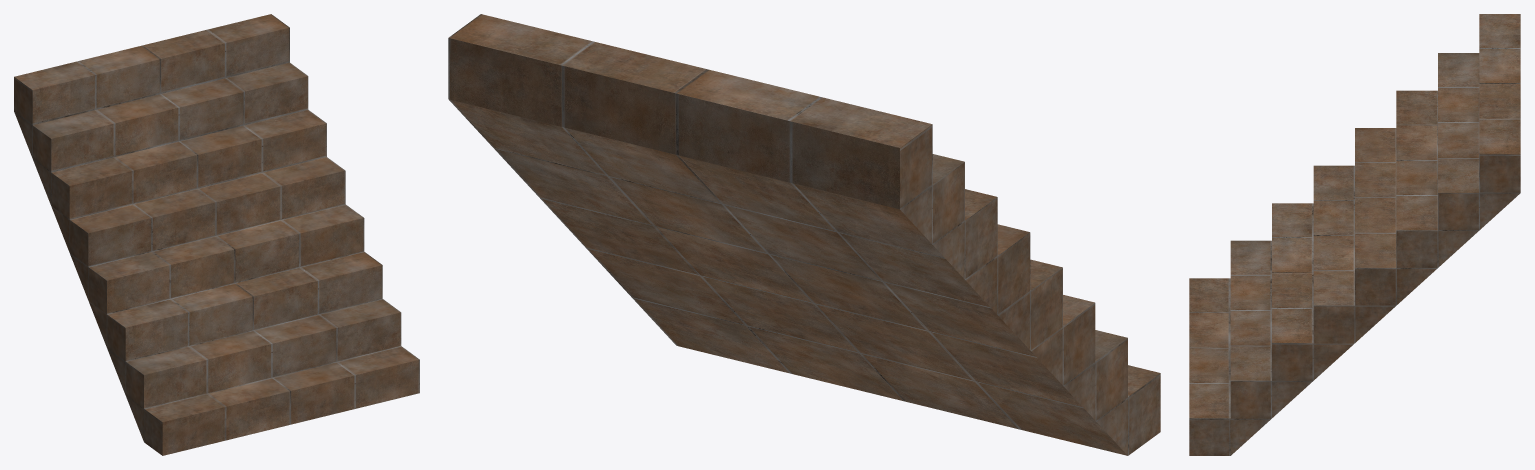
The model's file is Escalera.fbx.
3 renders of one model, left to right at view 1: azimuth 30°, elevation 25°; view 2: azimuth 150°, elevation 25°; view 3: azimuth 270°, elevation 25°, orthographic. The views are drawn at different scales.
Visible parts, largest first — view 1: Escalera; view 2: Escalera; view 3: Escalera.
Boxes of the visible parts, x1=… form: Escalera: x1=14, y1=14, x2=419, y2=455; Escalera: x1=448, y1=14, x2=1160, y2=455; Escalera: x1=1189, y1=14, x2=1520, y2=455.
Bounding box in the file's own units: 200 × 201 × 200.
